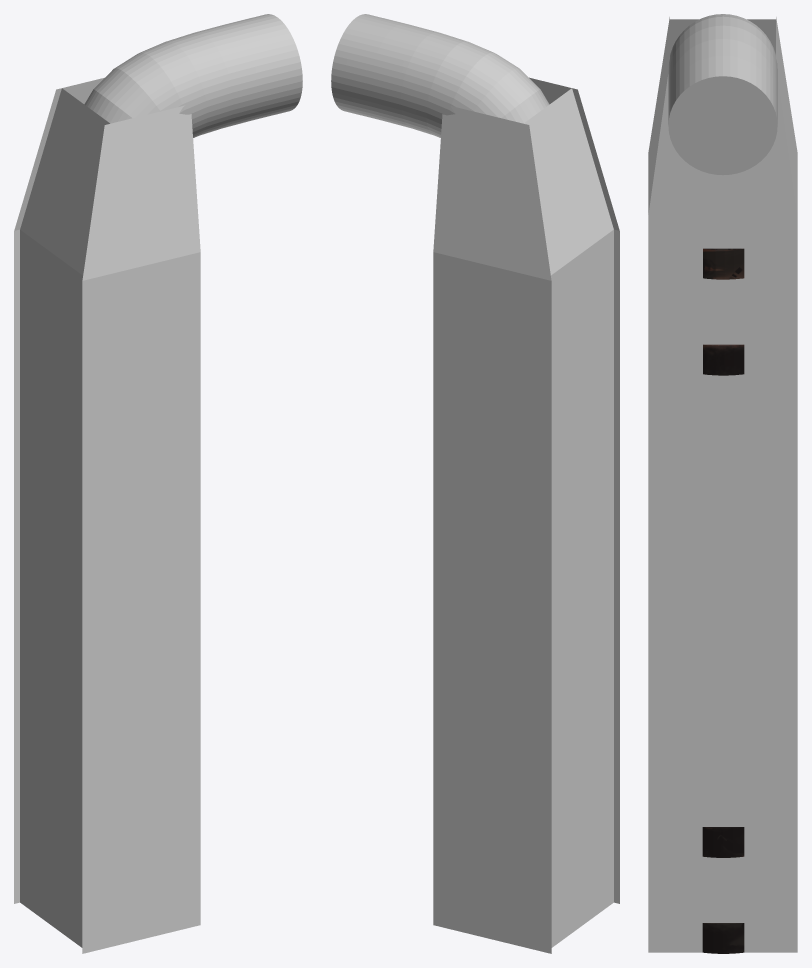
File: pipe & rail.fbx
3 views of the same model, side by side, from view 1: azimuth 30°, elevation 25°; view 2: azimuth 150°, elevation 25°; view 3: azimuth 270°, elevation 25° (orthographic). The views are drawn at different scales.
Visible parts, largest first — view 1: Cube.005, pipe elbow.002; view 2: Cube.005, pipe elbow.002; view 3: Cube.005, pipe elbow.002, pipe connection.004, pipe connection.003.
Boxes of the visible parts, x1,y1,x2,y2 form: Cube.005: [14, 77, 200, 953]; pipe elbow.002: [84, 14, 302, 137]; Cube.005: [433, 77, 619, 953]; pipe elbow.002: [331, 14, 549, 137]; Cube.005: [648, 17, 797, 952]; pipe elbow.002: [668, 14, 777, 175]; pipe connection.004: [703, 248, 744, 375]; pipe connection.003: [702, 827, 744, 953].
Bounding box in the file's own units: 241 × 856 × 124.
